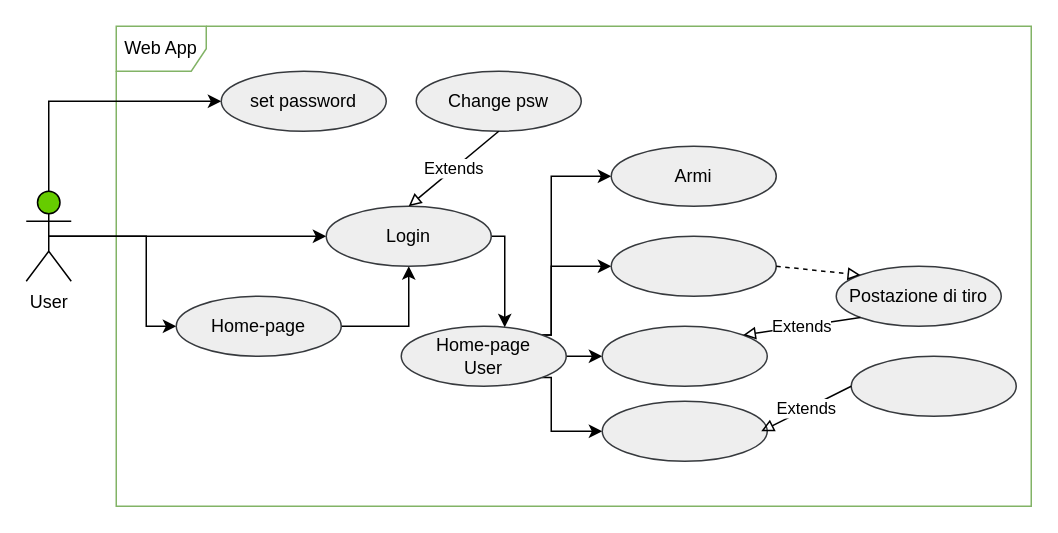
This 1058x533 diagram has some shape labels left out. The centre of each missing label's shape, as x and y in pixels:
"Banchina" belongs at pixel 684 355.
"Istruttori" belongs at pixel 684 430.
"Prenotazioni" belongs at pixel 693 265.
"Valutazione" belongs at pixel 933 385.
